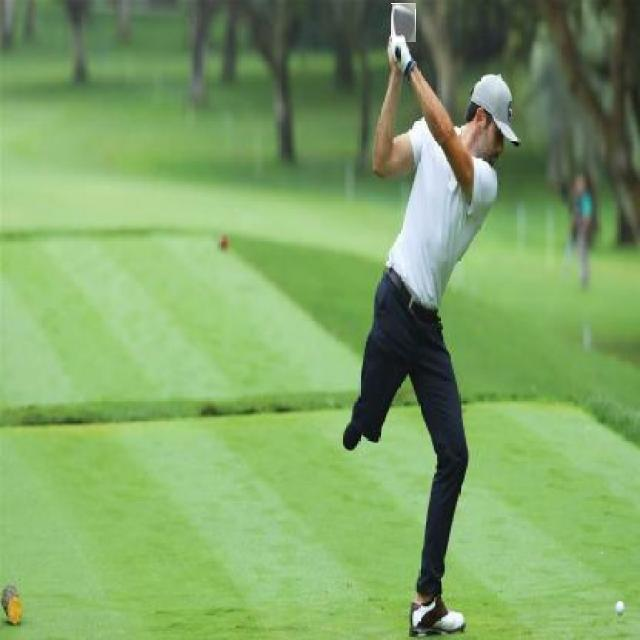club head: (392, 3, 416, 42)
